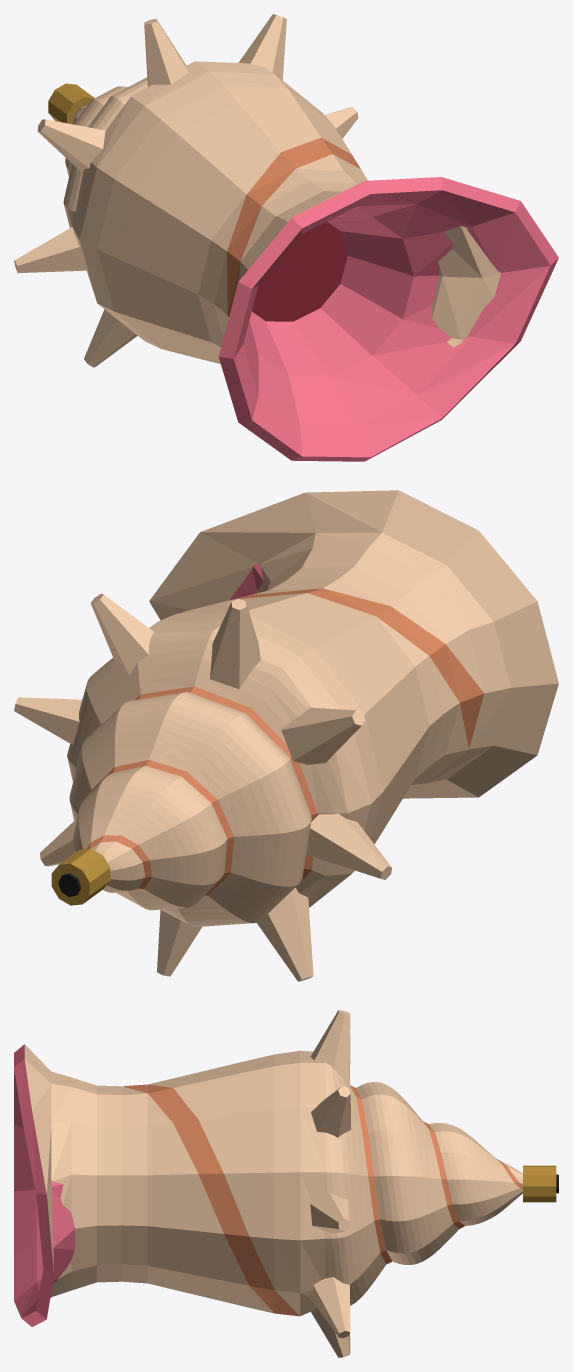
The model's file is Conch.obj.
The picture shows the model from 3 angles, top to bottom: view 1: azimuth 30°, elevation 25°; view 2: azimuth 150°, elevation 25°; view 3: azimuth 270°, elevation 25°; orthographic projection. The views are drawn at different scales.
Parts seen in each view (by area): view 1: Conch; view 2: Conch; view 3: Conch.
Boxes of the visible parts, bbox=[...] form: Conch: bbox=[14, 14, 558, 461]; Conch: bbox=[14, 490, 558, 981]; Conch: bbox=[14, 1010, 558, 1357].
Bounding box in the file's own units: 0.293 × 0.262 × 0.4075.
